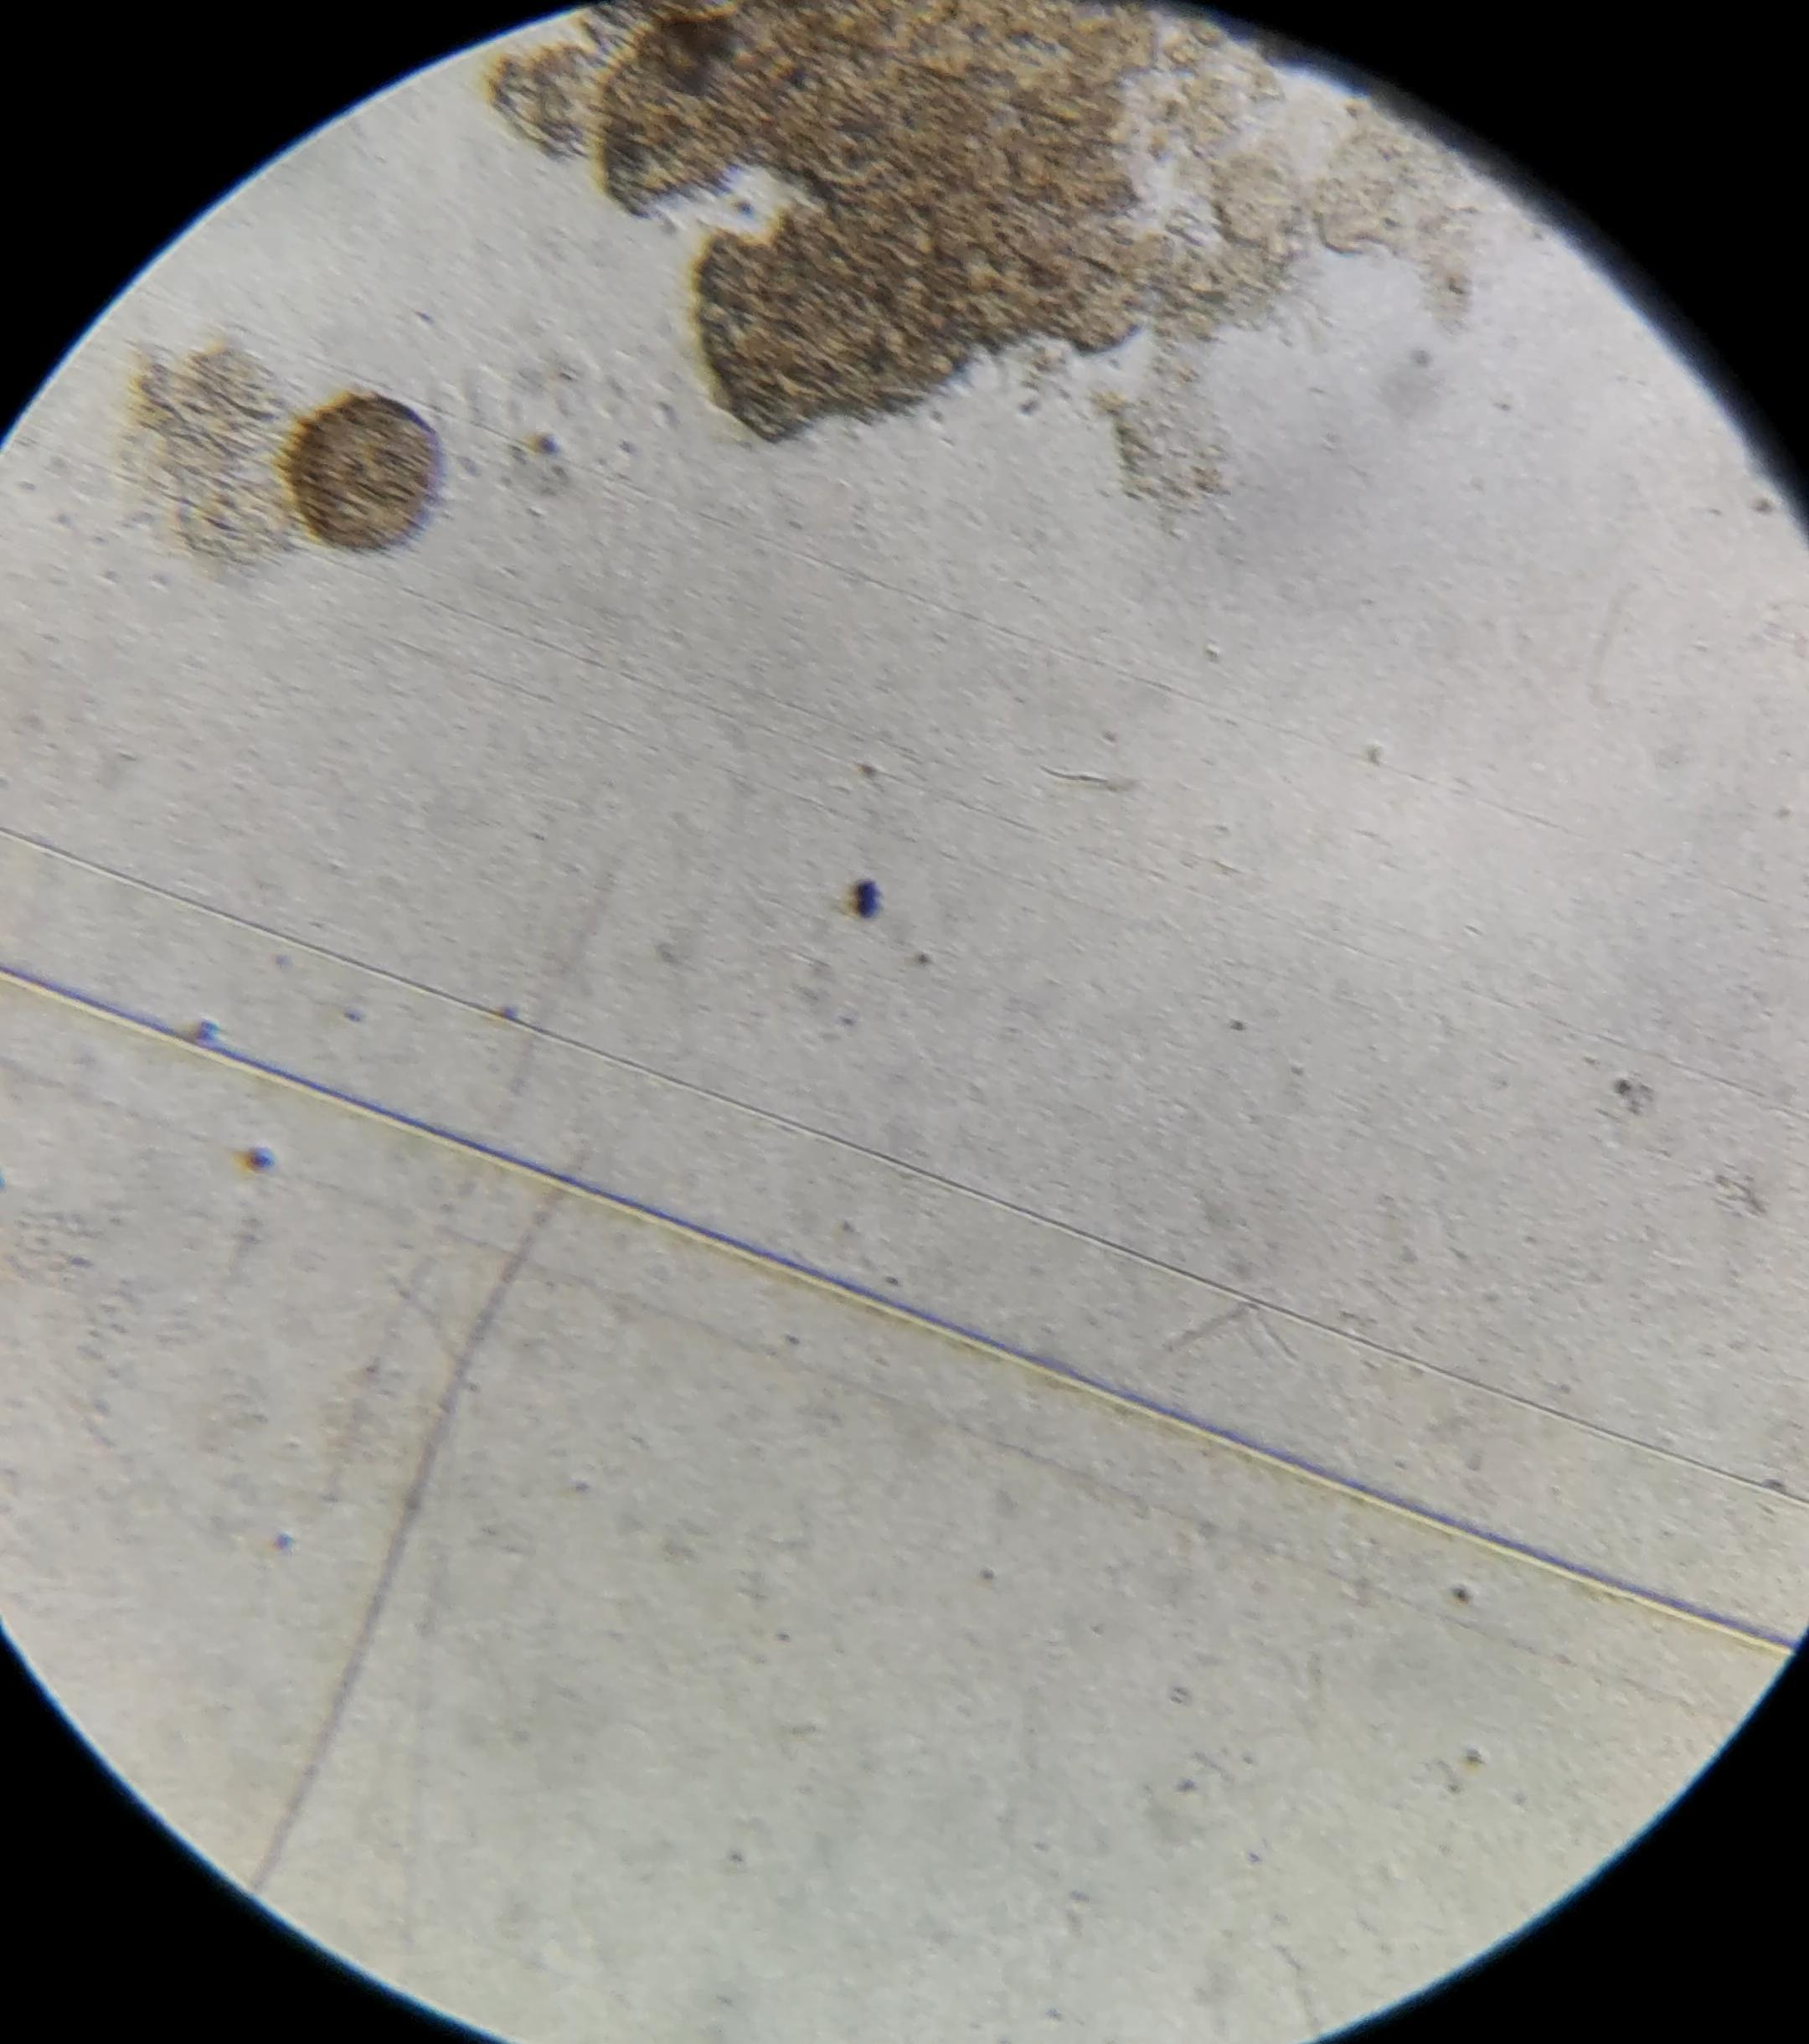Arcella: (295, 398, 438, 547)
